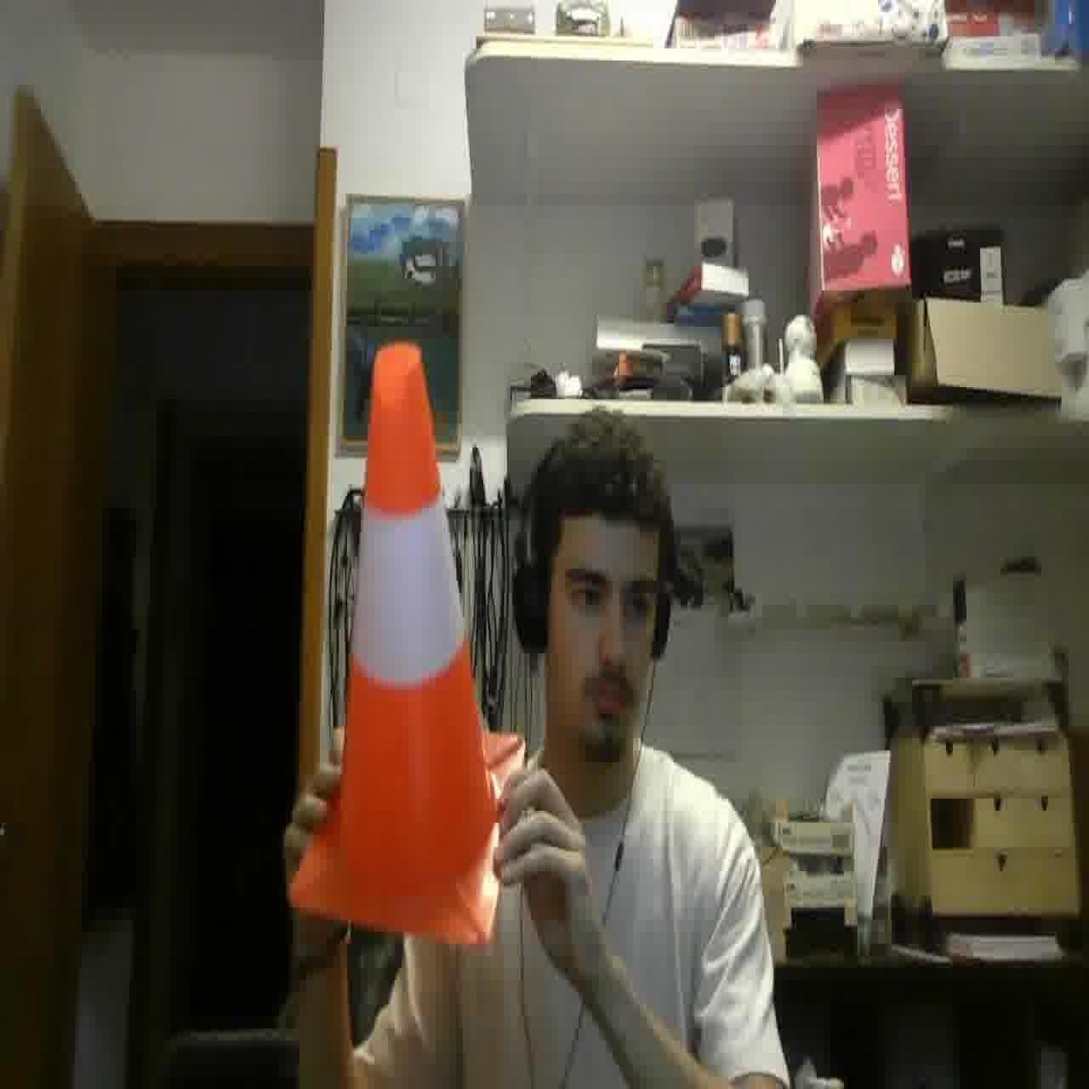NO_Safety_Vest: (465, 765, 709, 1089)
Person: (290, 339, 795, 1089)
